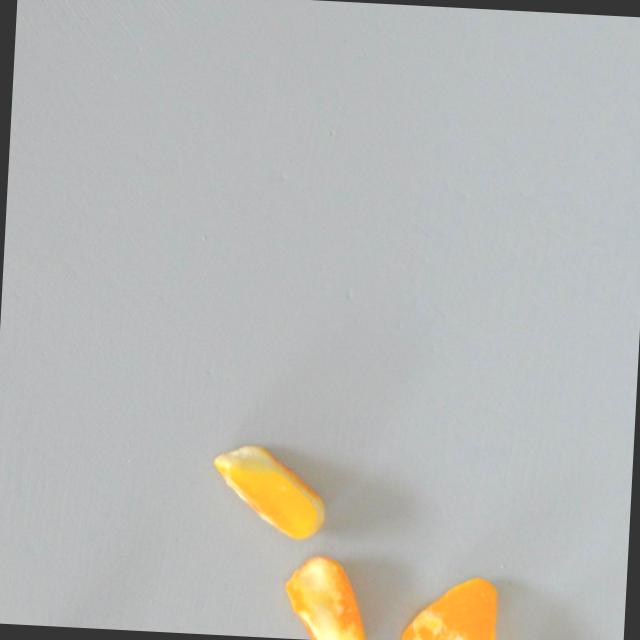pelicula: (209, 441, 331, 542), (280, 553, 371, 640), (399, 569, 500, 640)
